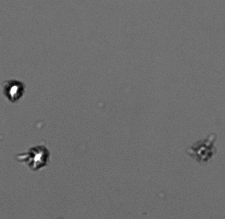Dead Cell: (193, 140, 214, 160)
Living Cell: (26, 146, 49, 170), (4, 80, 24, 101)
